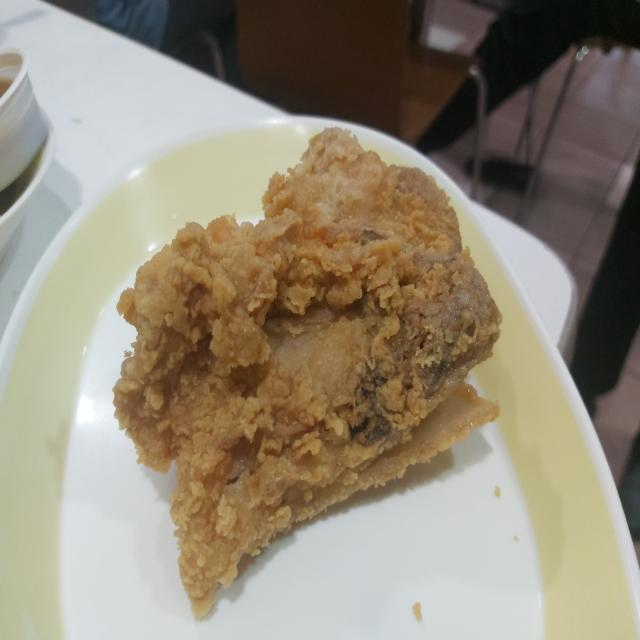Chicken -Fried Chicken-: (105, 115, 497, 640)
